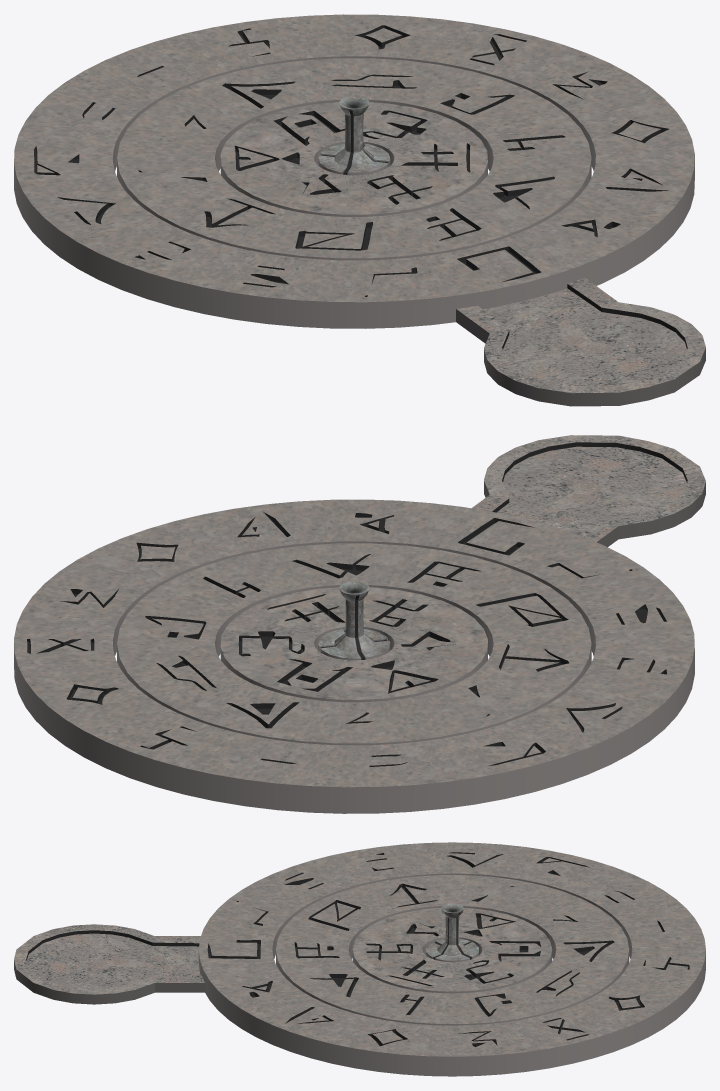
File: RuneDisks.fbx
3 renders of one model, top to bottom at view 1: azimuth 30°, elevation 25°; view 2: azimuth 150°, elevation 25°; view 3: azimuth 270°, elevation 25°, orthographic. The views are drawn at different scales.
Visible parts, largest first — view 1: rune_disk_03, rune_disk_02, rune_disk_01, rune_disk_platform.001, rune_disk_centre; view 2: rune_disk_03, rune_disk_02, rune_disk_01, rune_disk_platform.001, rune_disk_centre; view 3: rune_disk_03, rune_disk_02, rune_disk_01, rune_disk_platform.001, rune_disk_centre.
Boxes of the visible parts, bbox=[...] form: rune_disk_03: bbox=[14, 14, 694, 328]; rune_disk_02: bbox=[117, 58, 591, 260]; rune_disk_01: bbox=[220, 102, 487, 216]; rune_disk_platform.001: bbox=[456, 277, 705, 406]; rune_disk_centre: bbox=[318, 96, 390, 175]; rune_disk_03: bbox=[14, 499, 694, 813]; rune_disk_02: bbox=[117, 543, 591, 745]; rune_disk_01: bbox=[220, 587, 487, 702]; rune_disk_platform.001: bbox=[472, 435, 705, 547]; rune_disk_centre: bbox=[318, 581, 390, 660]; rune_disk_03: bbox=[198, 842, 705, 1076]; rune_disk_02: bbox=[276, 875, 629, 1025]; rune_disk_01: bbox=[352, 908, 552, 993]; rune_disk_platform.001: bbox=[14, 924, 204, 1004]; rune_disk_centre: bbox=[426, 903, 478, 962].
Bounding box in the file's own units: 10.44 × 1.39 × 14.25.
